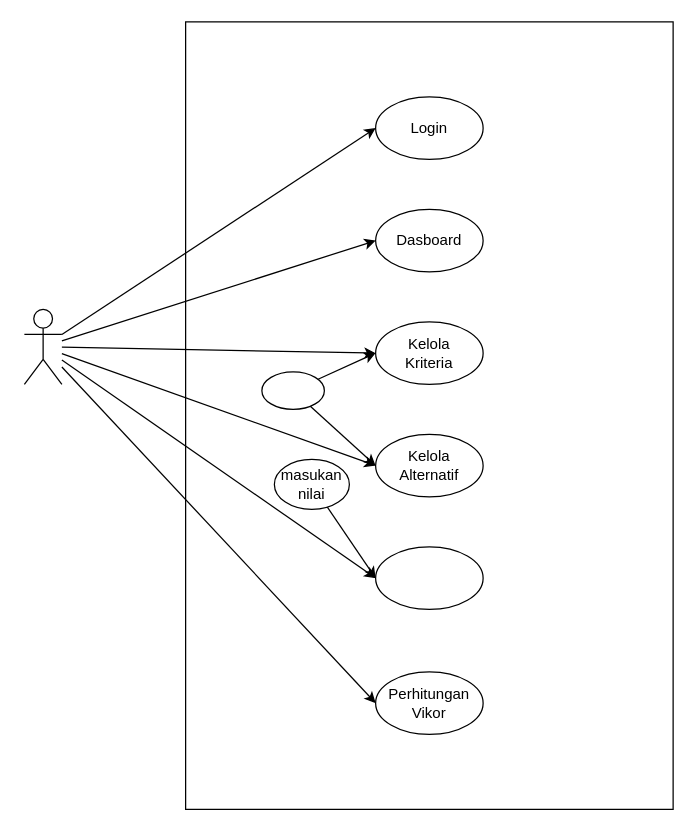
Image size: 695x831. Some labels were removed from this diagram. Each missing label, with the centre of its shape:
"Admin" goes at (x=42, y=346).
"crud" goes at (x=292, y=390).
"Penilain" goes at (x=428, y=577).
